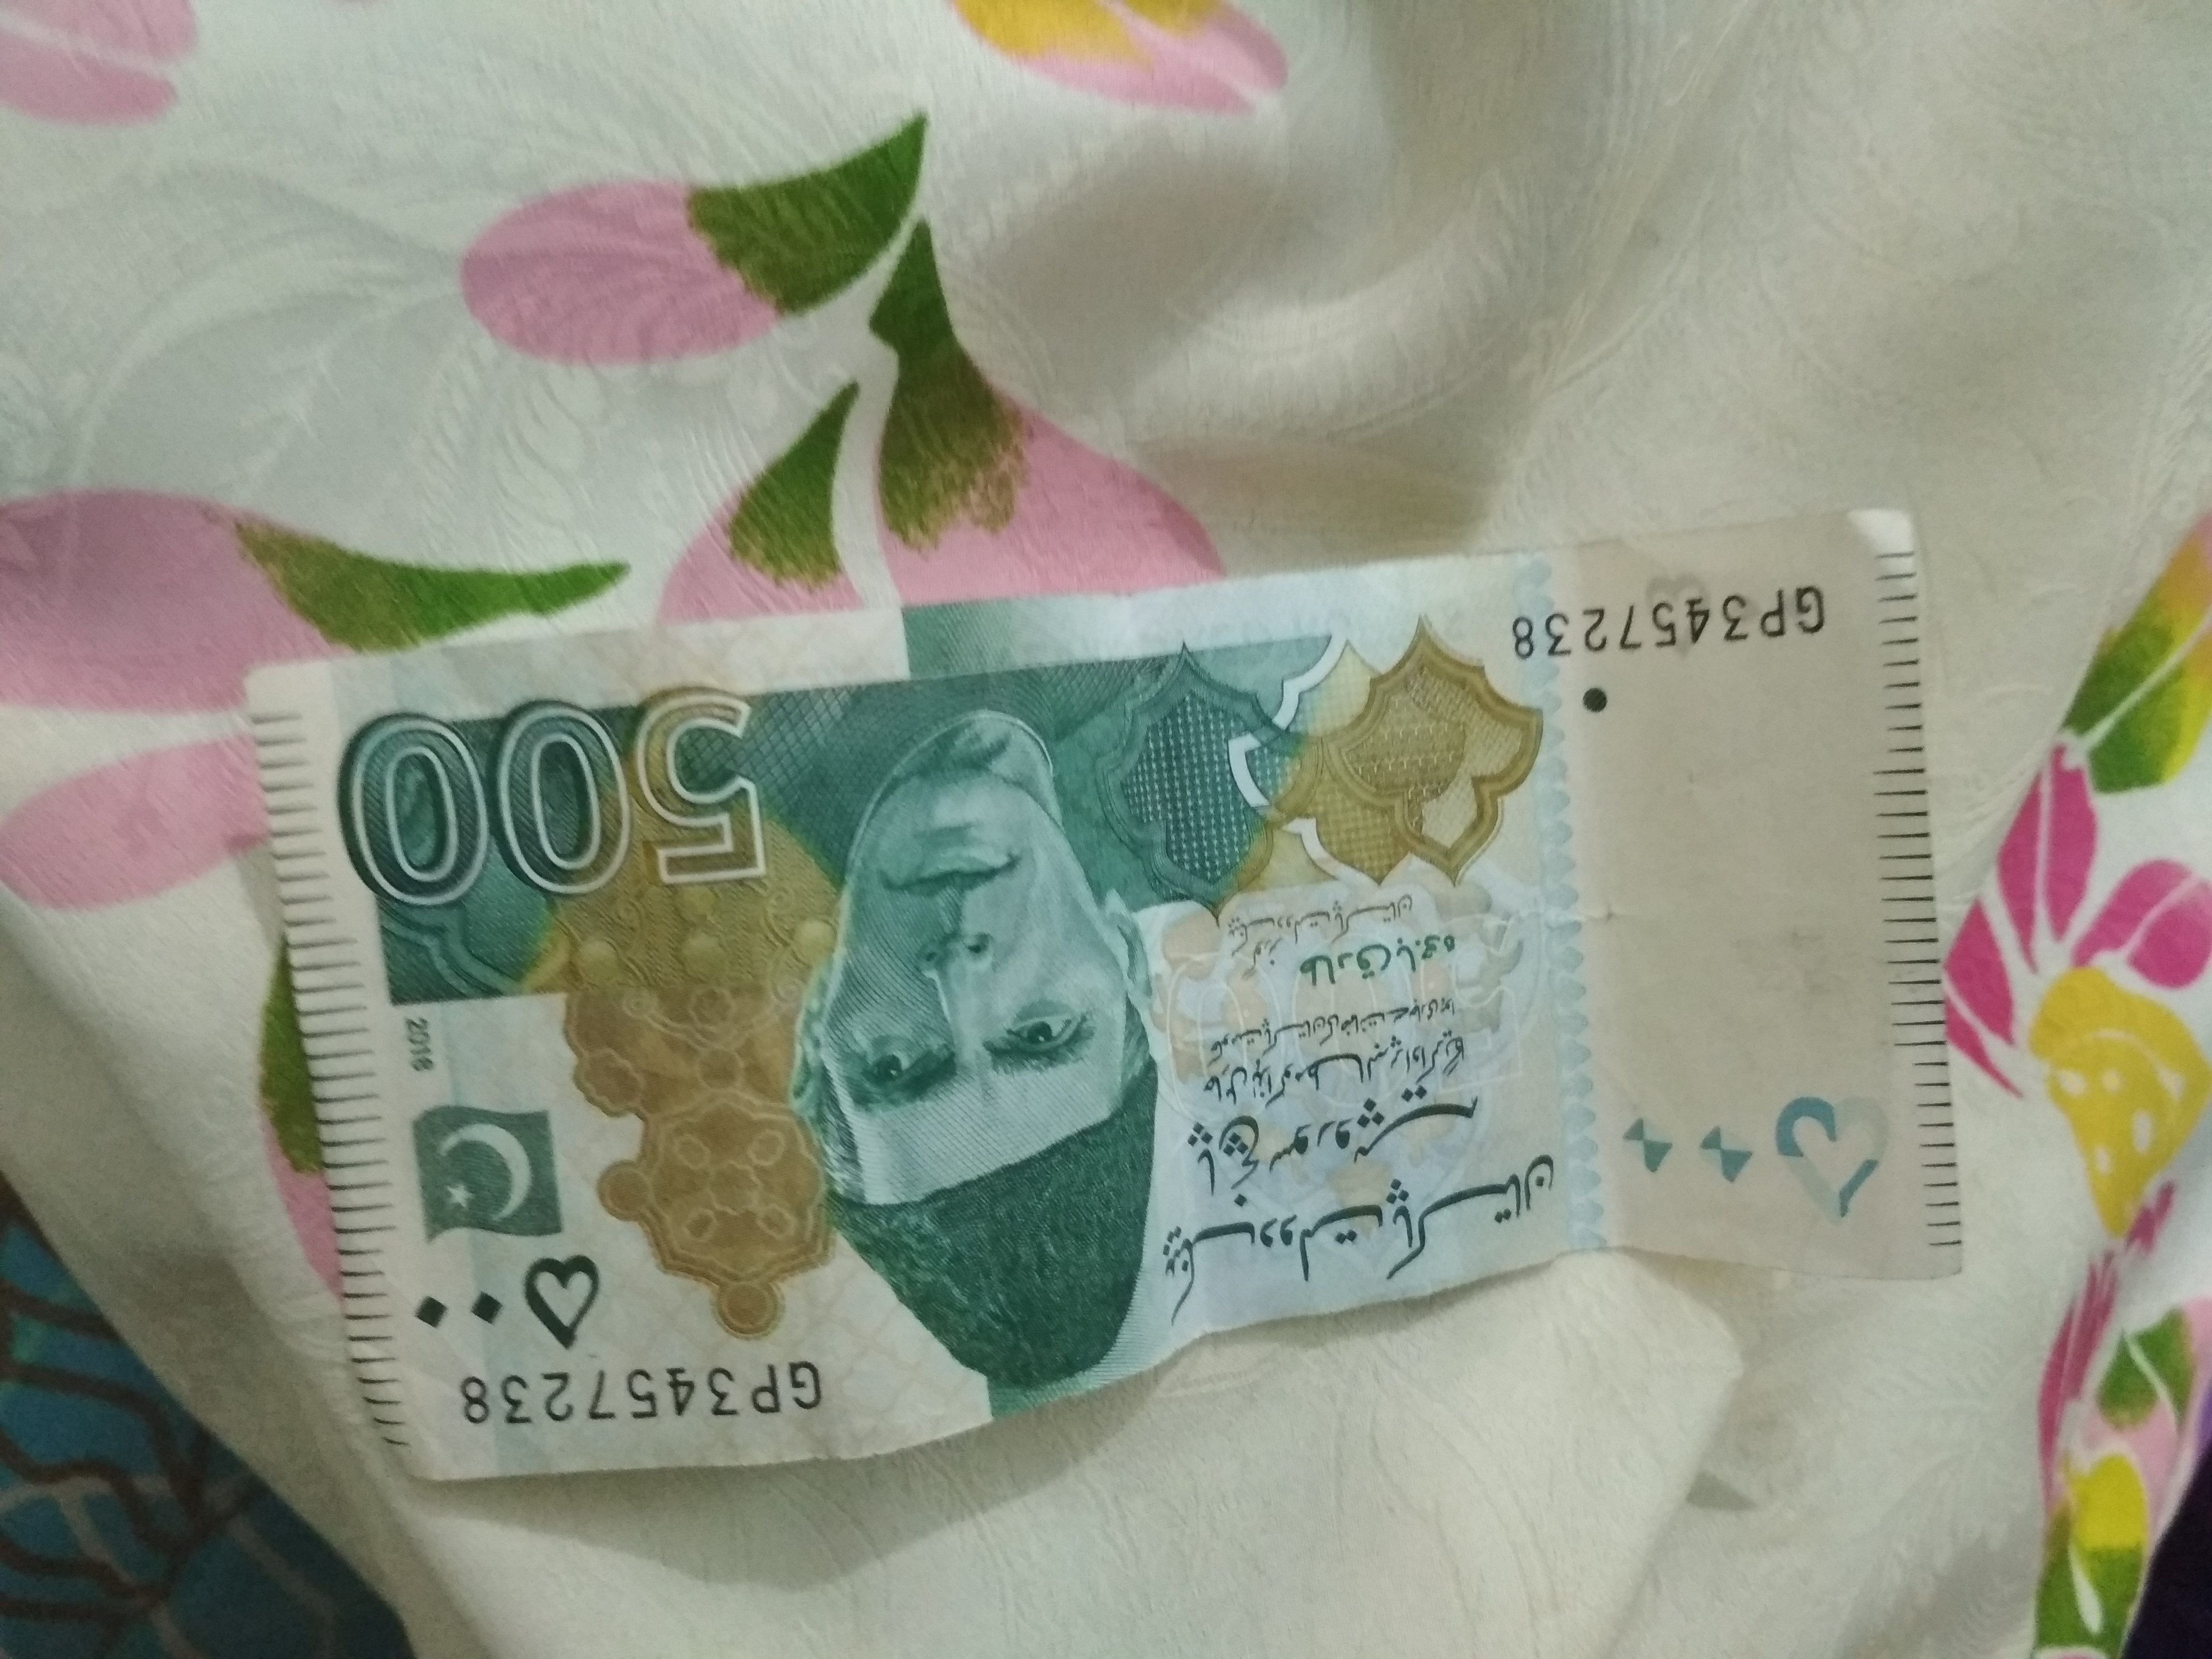500 rupee: (256, 530, 2034, 1497)
